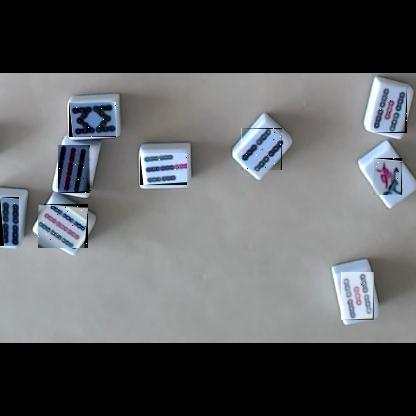1s: (373, 158, 402, 195)
4s: (241, 128, 282, 170)
5s: (341, 272, 374, 320), (374, 87, 407, 133)
6s: (0, 197, 19, 246)
7s: (140, 153, 187, 185)
8s: (69, 102, 116, 137)
9s: (38, 204, 88, 248), (59, 145, 93, 193)
